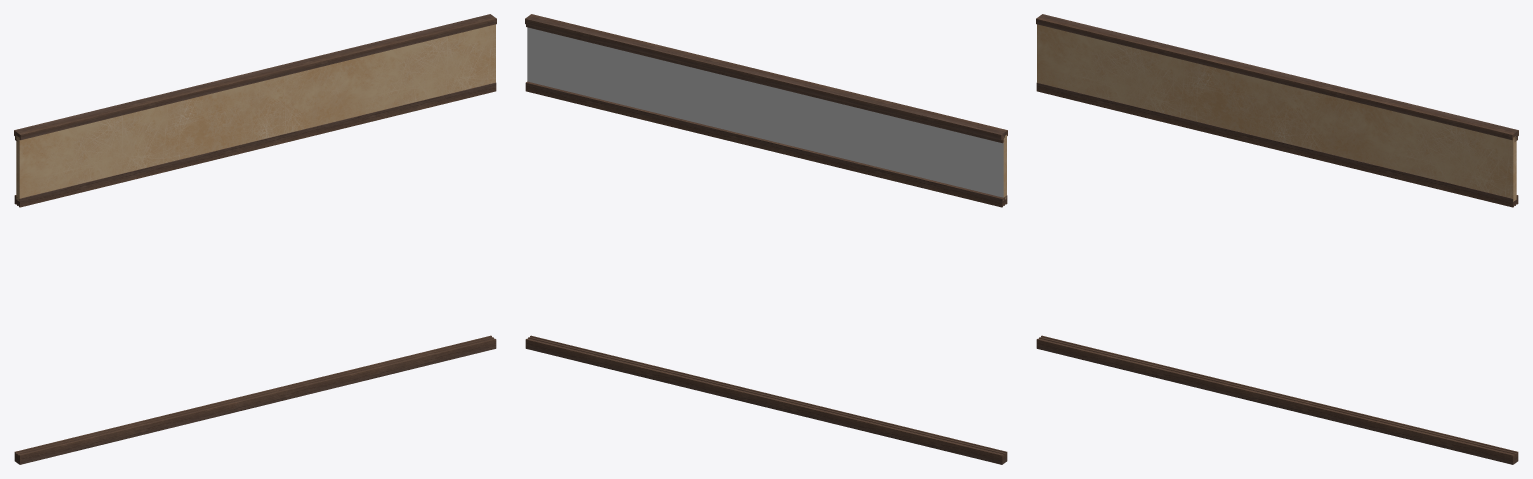
File: jov_outwall01_2t_to_e1.fbx
3 renders of one model, left to right at view 1: azimuth 30°, elevation 25°; view 2: azimuth 150°, elevation 25°; view 3: azimuth 330°, elevation 25°, orthographic.
Visible parts, largest first — view 1: jov_outwall01_2t_to_e1; view 2: jov_outwall01_2t_to_e1; view 3: jov_outwall01_2t_to_e1.
Boxes of the visible parts, x1,y1,x2,y2 form: jov_outwall01_2t_to_e1: [14, 14, 496, 464]; jov_outwall01_2t_to_e1: [525, 14, 1007, 464]; jov_outwall01_2t_to_e1: [1036, 14, 1518, 464].
Bounding box in the file's own units: 440 × 292 × 10.4.
